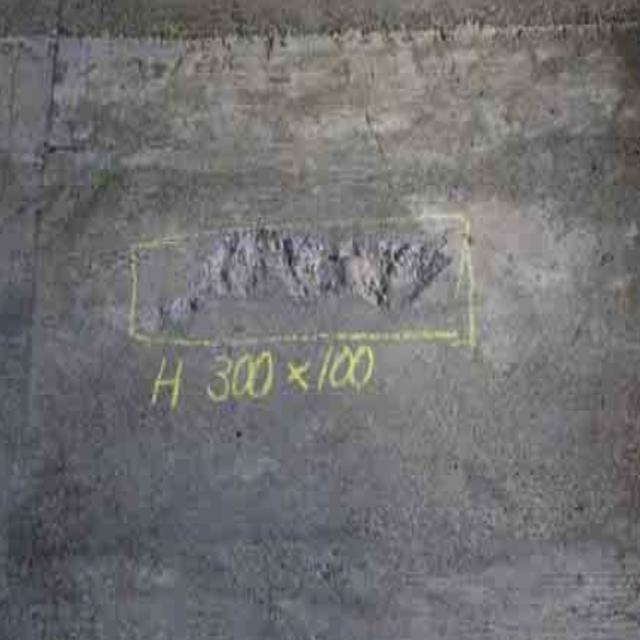spalling: (144, 212, 459, 334)
